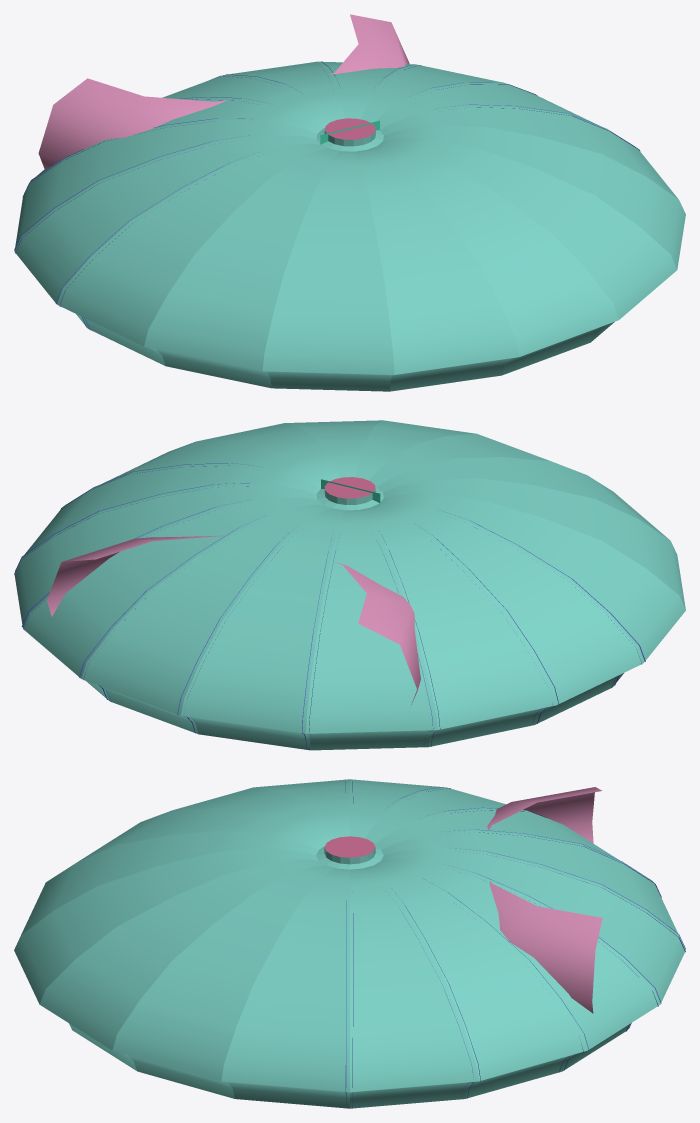
File: highcharity_sky02.fbx
3 renders of one model, top to bottom at view 1: azimuth 30°, elevation 25°; view 2: azimuth 150°, elevation 25°; view 3: azimuth 270°, elevation 25°, orthographic.
Parts seen in each view (by area): view 1: L6 sky 10, L6 sky 70, L6 sky 20; view 2: L6 sky 10, L6 sky 70, L6 sky 20; view 3: L6 sky 10, L6 sky 70, L6 sky 20.
Boxes of the visible parts, left/top/right/bottom form: L6 sky 10: left=14, top=61, right=685, bottom=391; L6 sky 70: left=38, top=14, right=409, bottom=169; L6 sky 20: left=14, top=61, right=639, bottom=330; L6 sky 10: left=14, top=420, right=685, bottom=750; L6 sky 70: left=47, top=535, right=420, bottom=732; L6 sky 20: left=14, top=463, right=645, bottom=749; L6 sky 10: left=14, top=779, right=685, bottom=1108; L6 sky 70: left=487, top=787, right=602, bottom=1013; L6 sky 20: left=345, top=779, right=685, bottom=1108.
Bounding box in the file's own units: 1661948 × 370750 × 1661921.
